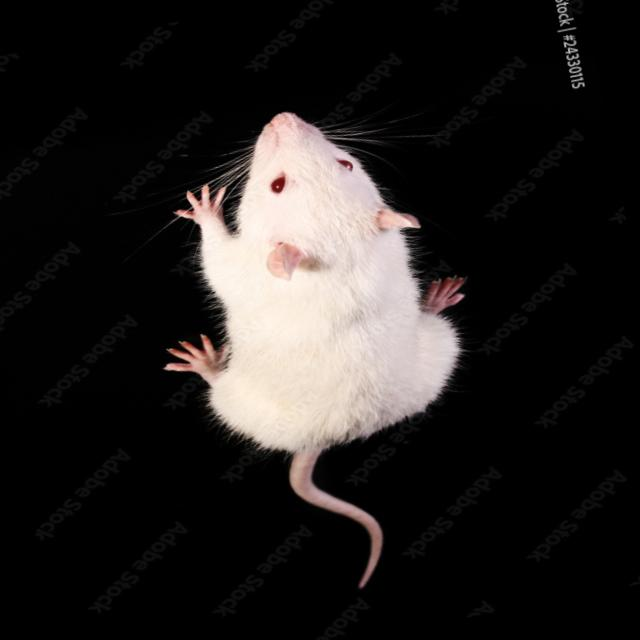rodents: (97, 80, 498, 490)
